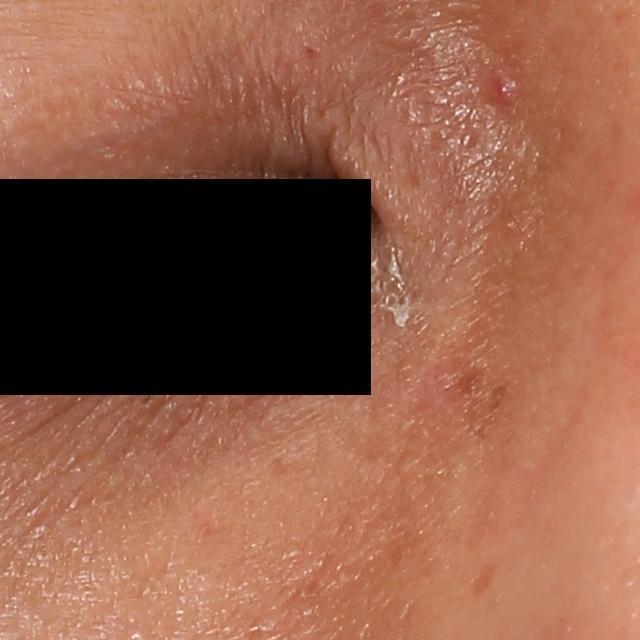melasma: (448, 357, 512, 421), (471, 556, 503, 592)
